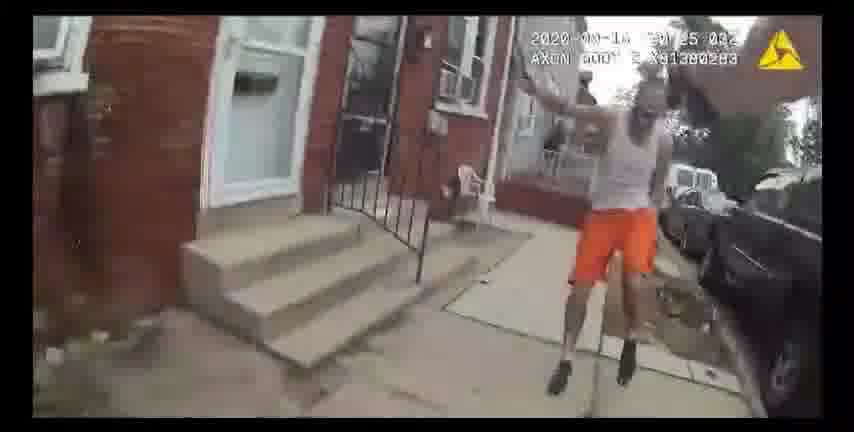knife: (511, 32, 531, 81)
knife in hand: (505, 21, 566, 144)
person: (541, 71, 676, 388)
